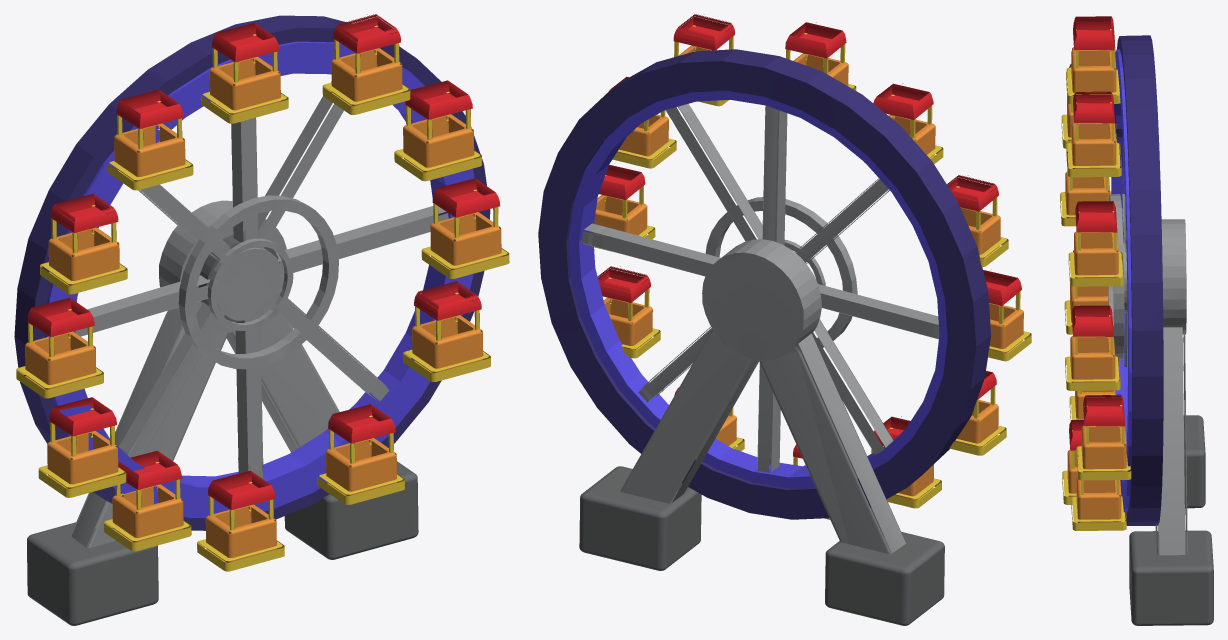
The model's file is merigo.glb.
3 views of the same model, side by side, from view 1: azimuth 30°, elevation 25°; view 2: azimuth 150°, elevation 25°; view 3: azimuth 270°, elevation 25° (orthographic). The views are drawn at different scales.
Parts seen in each view (by area): view 1: merigo; view 2: merigo; view 3: merigo.
Part boxes in pixels (x1,y1,x2,y2): merigo: [14, 14, 509, 625]; merigo: [538, 14, 1031, 625]; merigo: [1060, 16, 1213, 625].
Size of the model in its own units: 191 by 218 by 57.78.
Materials: 1 (1 with a texture image).
